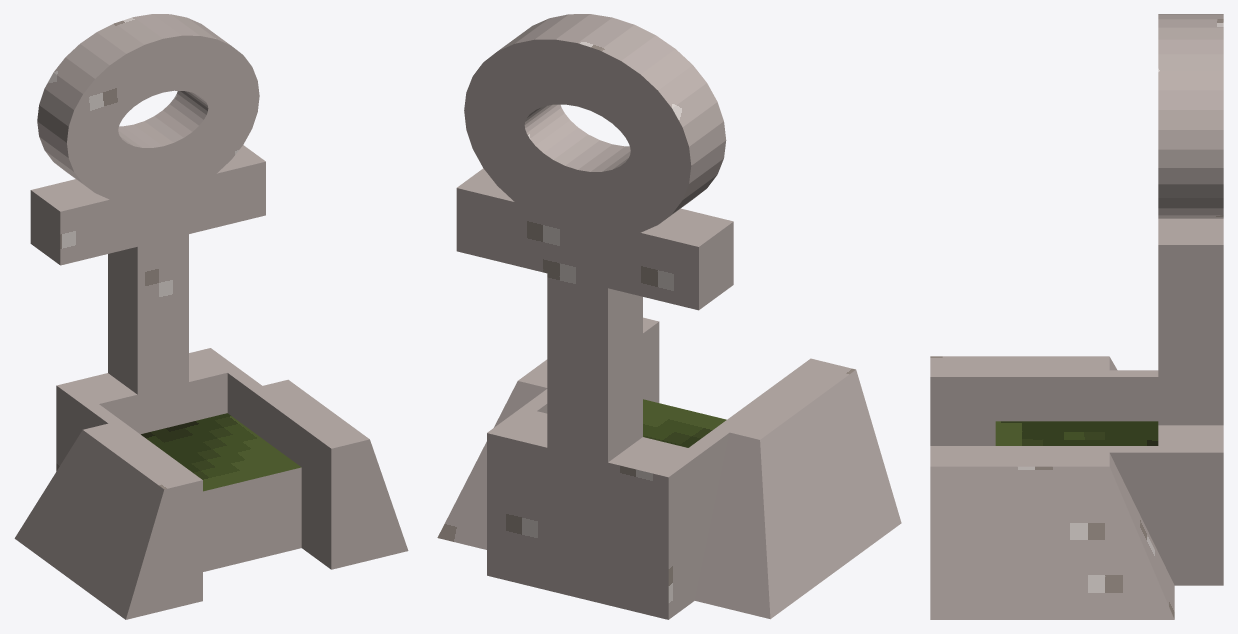
The model's file is 0292-19-throne.glb.
The picture shows the model from 3 angles, left to right: view 1: azimuth 30°, elevation 25°; view 2: azimuth 150°, elevation 25°; view 3: azimuth 270°, elevation 25°; orthographic projection. The views are drawn at different scales.
Visible parts, largest first — view 1: Throne; view 2: Throne; view 3: Throne.
Boxes of the visible parts, x1,y1,x2,y2 form: Throne: (14, 14, 408, 619); Throne: (437, 14, 901, 619); Throne: (930, 14, 1223, 619).
Size of the model in its own units: 1.1 by 1.75 by 0.9.
1 material, 1 textured.
